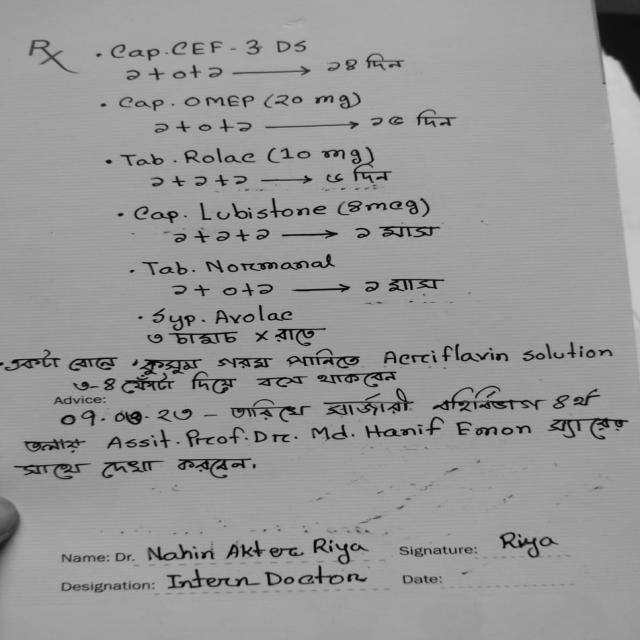Avolac: (211, 304, 307, 327)
Cef-3 DS: (170, 35, 315, 60)
Lubistone: (181, 189, 332, 228)
Normanal: (201, 255, 359, 277)
Omep: (181, 89, 257, 115)
Rolac: (175, 144, 260, 172)
